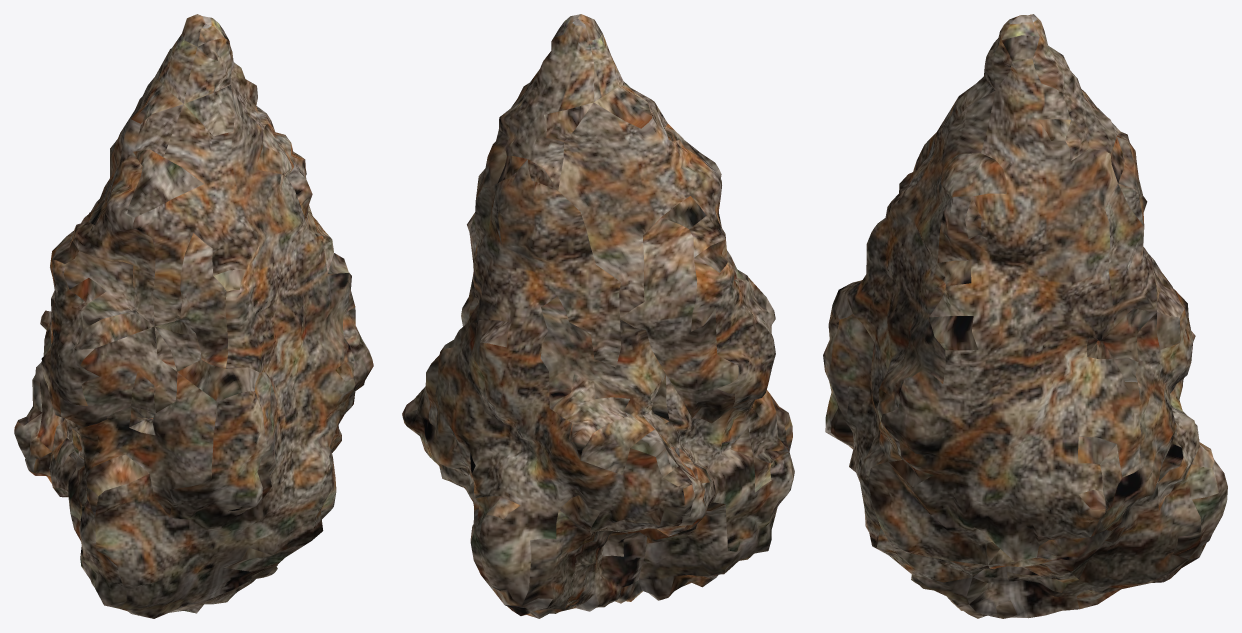
File: bud.glb
The picture shows the model from 3 angles, left to right: view 1: azimuth 30°, elevation 25°; view 2: azimuth 150°, elevation 25°; view 3: azimuth 270°, elevation 25°; orthographic projection. The views are drawn at different scales.
Visible parts, largest first — view 1: world; view 2: world; view 3: world.
Part boxes in pixels (x1=…): world: x1=14, y1=14, x2=373, y2=618; world: x1=402, y1=14, x2=794, y2=618; world: x1=823, y1=14, x2=1227, y2=618.
Bounding box in the file's own units: 2.15 × 3.85 × 2.33.
Materials: 1 (1 with a texture image).
